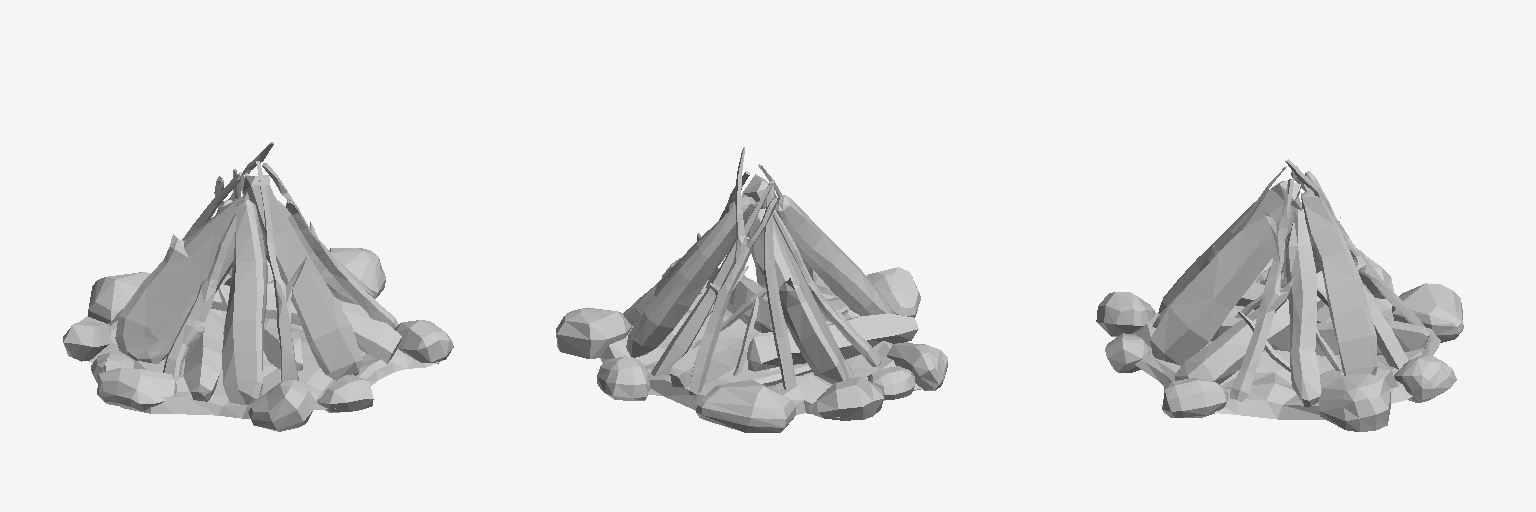
File: fire.obj
3 views of the same model, side by side, from view 1: azimuth 30°, elevation 25°; view 2: azimuth 150°, elevation 25°; view 3: azimuth 270°, elevation 25° (orthographic).
Parts seen in each view (by area): view 1: Campfire_clean; view 2: Campfire_clean; view 3: Campfire_clean.
Part boxes in pixels (x1,y1,x2,y2): Campfire_clean: (63, 142, 453, 431); Campfire_clean: (556, 147, 947, 432); Campfire_clean: (1096, 159, 1463, 431).
Bounding box in the file's own units: 19.6 × 12.02 × 18.81.